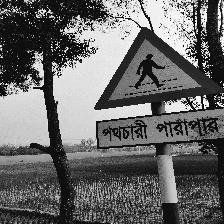Pedestrian-crossing: (93, 26, 224, 151)
